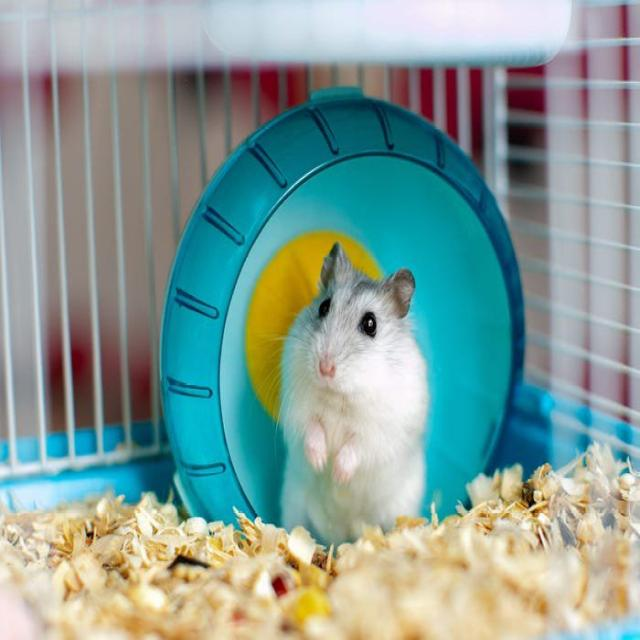hamster: (283, 262, 478, 550)
